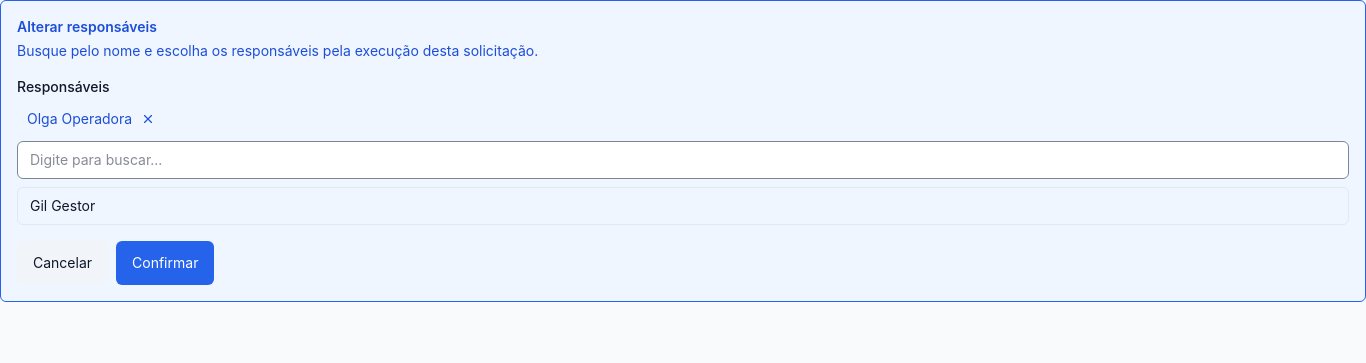
it: ResponsaveisAction › deve não dar o aviso de sucesso quando a API recusa a ação
The image size is (1366, 363).
Click the button "Confirmar".
click(165, 263)  # box top-left (116, 241), bottom-right (214, 285)
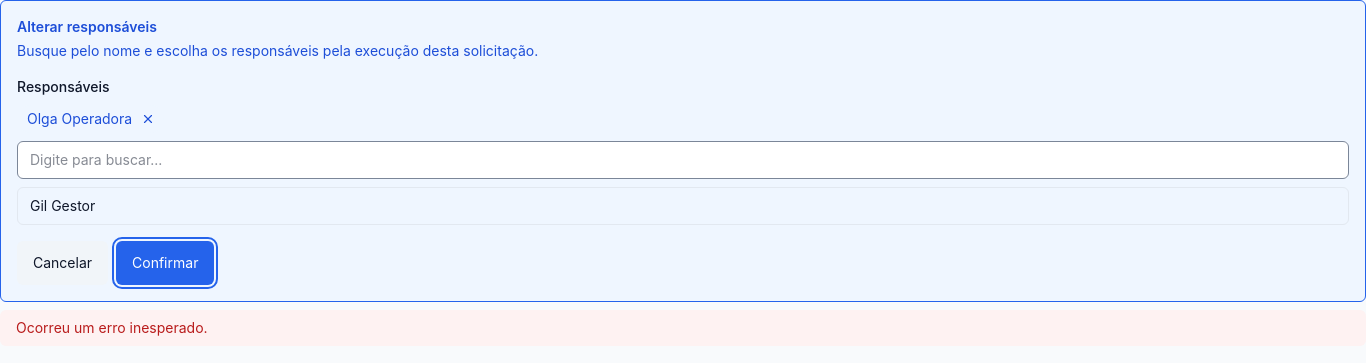
Check: the message "Ocorreu um erro inesperado." is shown, box top-left (0, 310), bottom-right (1365, 346)
